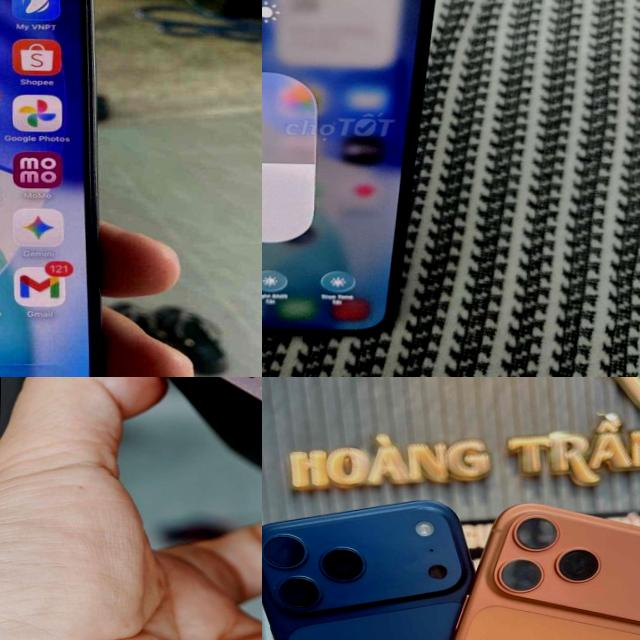gen_12_13: (262, 0, 440, 345)
gen_14: (100, 377, 262, 552)
gen_15: (0, 0, 117, 377)
gen_17: (262, 500, 472, 640), (279, 576, 319, 608)
scratch: (221, 377, 262, 445)
